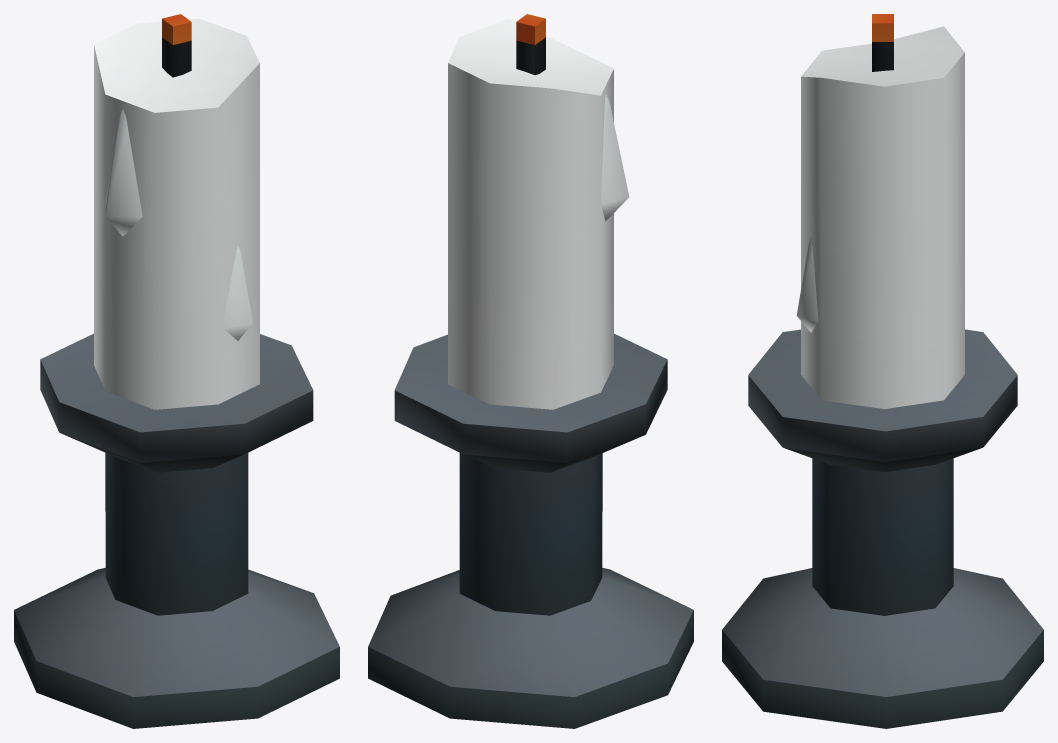
File: candle_half.fbx
3 renders of one model, left to right at view 1: azimuth 30°, elevation 25°; view 2: azimuth 150°, elevation 25°; view 3: azimuth 270°, elevation 25°, orthographic.
Parts seen in each view (by area): view 1: candle_half; view 2: candle_half; view 3: candle_half.
Part boxes in pixels (box(x1,y1,x2,y2)): candle_half: box(14, 14, 339, 728); candle_half: box(368, 14, 693, 728); candle_half: box(722, 14, 1043, 728).
Size of the model in its own units: 18.35 by 40.42 by 18.35.
